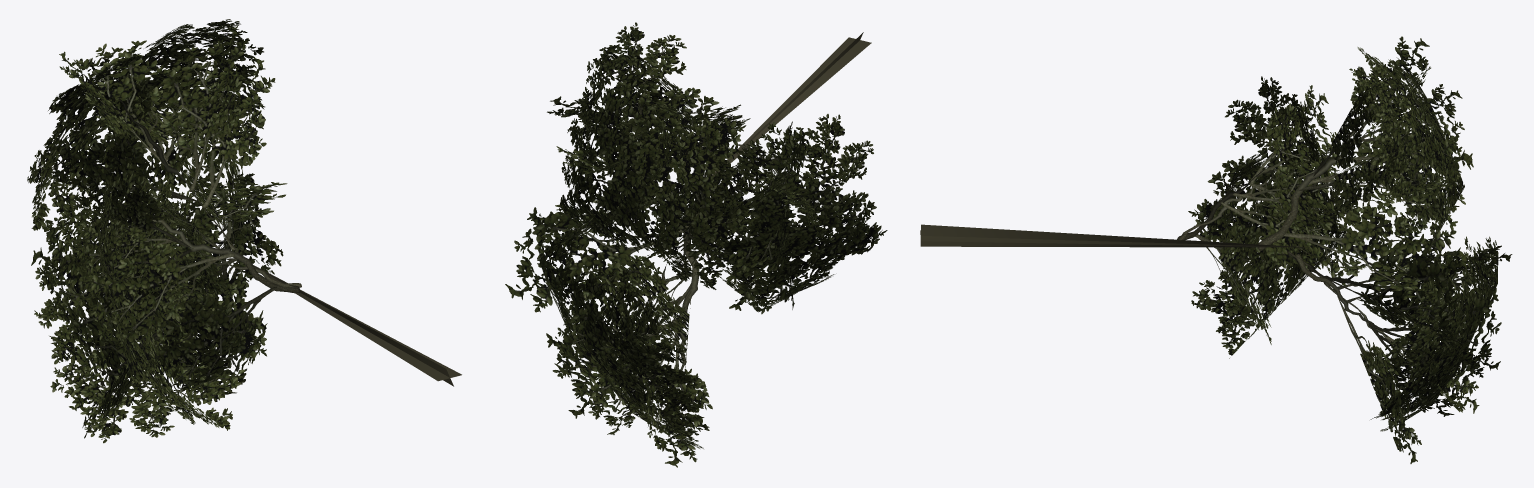
File: MEP_Tree_02_f_LOD_01.fbx
3 views of the same model, side by side, from view 1: azimuth 30°, elevation 25°; view 2: azimuth 150°, elevation 25°; view 3: azimuth 270°, elevation 25° (orthographic). The views are drawn at different scales.
Visible parts, largest first — view 1: MEP_Leafs_02_f_LOD_01; view 2: MEP_Leafs_02_f_LOD_01; view 3: MEP_Leafs_02_f_LOD_01.
Part boxes in pixels (x1,y1,x2,y2): MEP_Leafs_02_f_LOD_01: [27, 19, 461, 443]; MEP_Leafs_02_f_LOD_01: [505, 22, 887, 467]; MEP_Leafs_02_f_LOD_01: [920, 36, 1512, 463].
Size of the model in its own units: 17.28 by 23.47 by 30.22.
